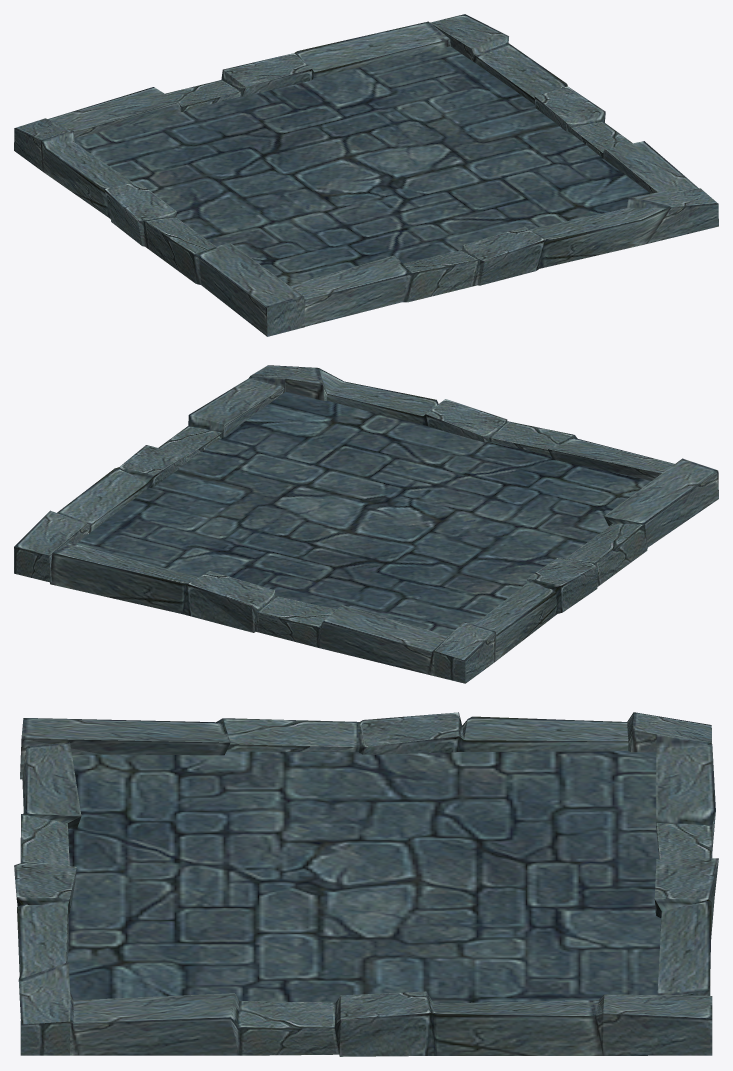
The model's file is Maincity_Foundation.FBX.
3 views of the same model, one above another, from view 1: azimuth 30°, elevation 25°; view 2: azimuth 150°, elevation 25°; view 3: azimuth 270°, elevation 25° (orthographic). The views are drawn at different scales.
Visible parts, largest first — view 1: Maincity_Foundation; view 2: Maincity_Foundation; view 3: Maincity_Foundation.
Part boxes in pixels (box(x1,y1,x2,y2)): Maincity_Foundation: box(14, 14, 718, 336); Maincity_Foundation: box(14, 365, 718, 683); Maincity_Foundation: box(14, 712, 718, 1056).
Size of the model in its own units: 658 by 52.52 by 641.
